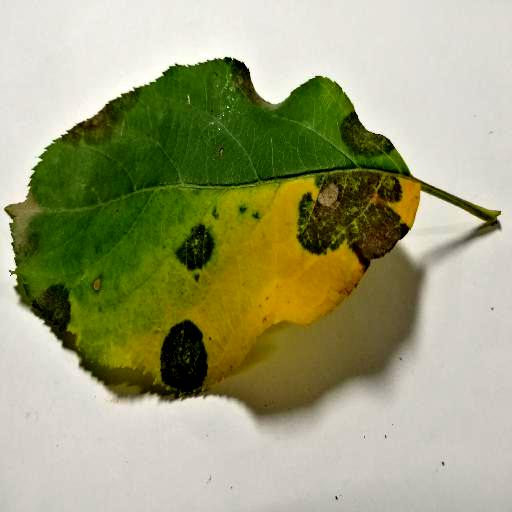Brown_Spot: (293, 174, 398, 271), (59, 92, 135, 145), (323, 114, 401, 162), (165, 324, 209, 393), (30, 286, 75, 347), (229, 68, 273, 110), (173, 223, 212, 269)
